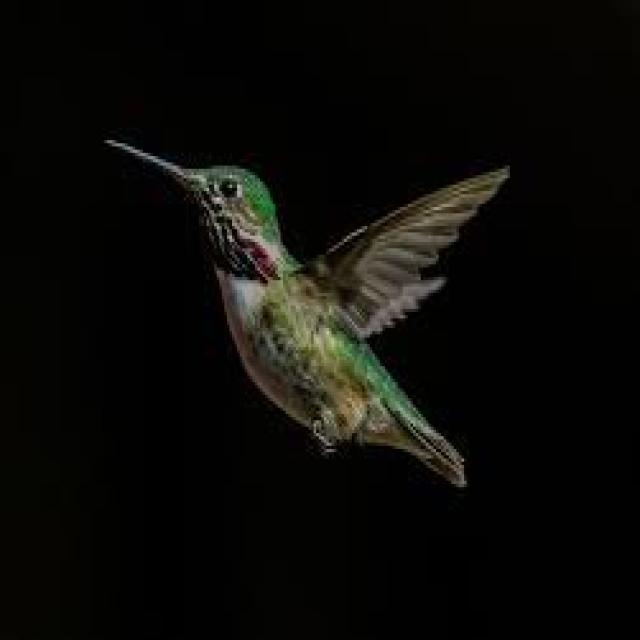Humming Bird: (104, 132, 517, 506)
